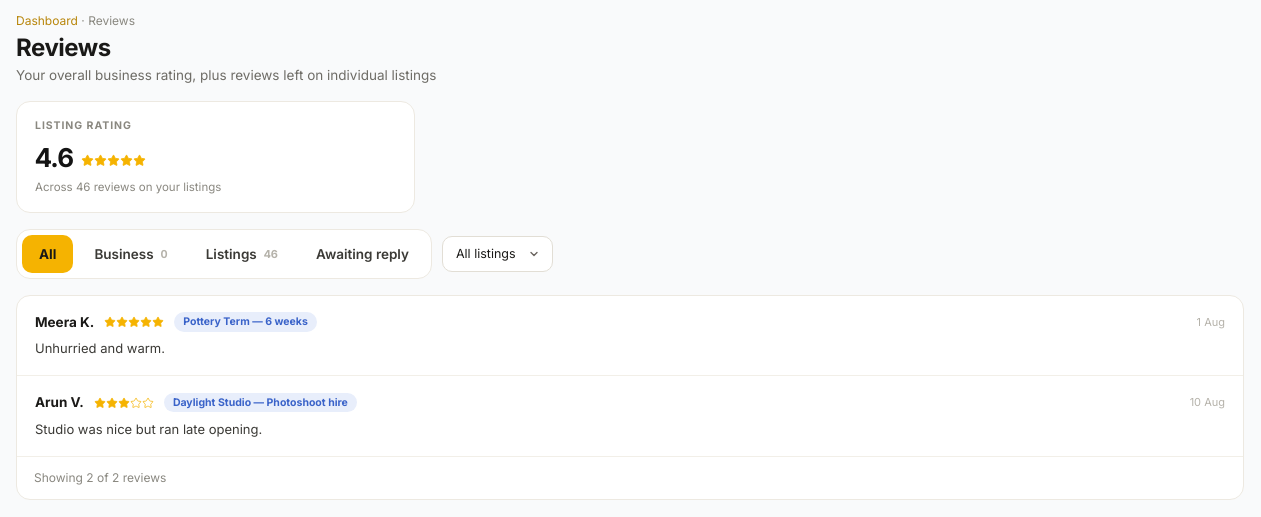
Scenario: Reviews — tabs › shows a Coming soon panel for the Awaiting reply tab
Expected: the text "Meera K." is shown, top-left (35, 312), bottom-right (94, 332)
Click the tab "Awaiting reply" at [362, 254], box top-left (299, 235), bottom-right (426, 273)
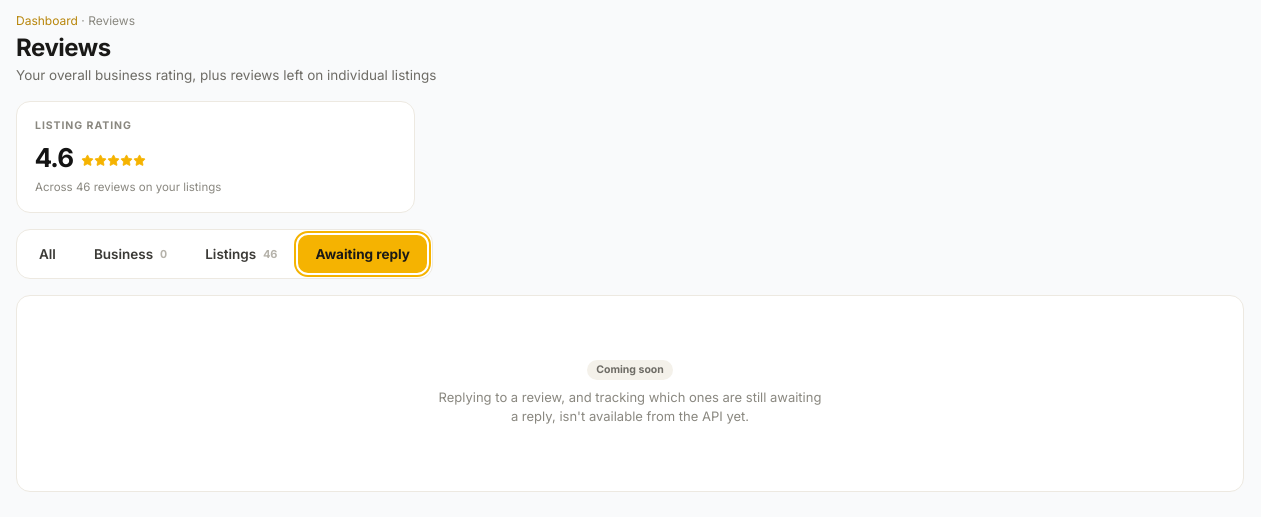
Result: the text "tracking which ones are still awaiting a reply" is shown at top-left (439, 389), bottom-right (822, 424)
